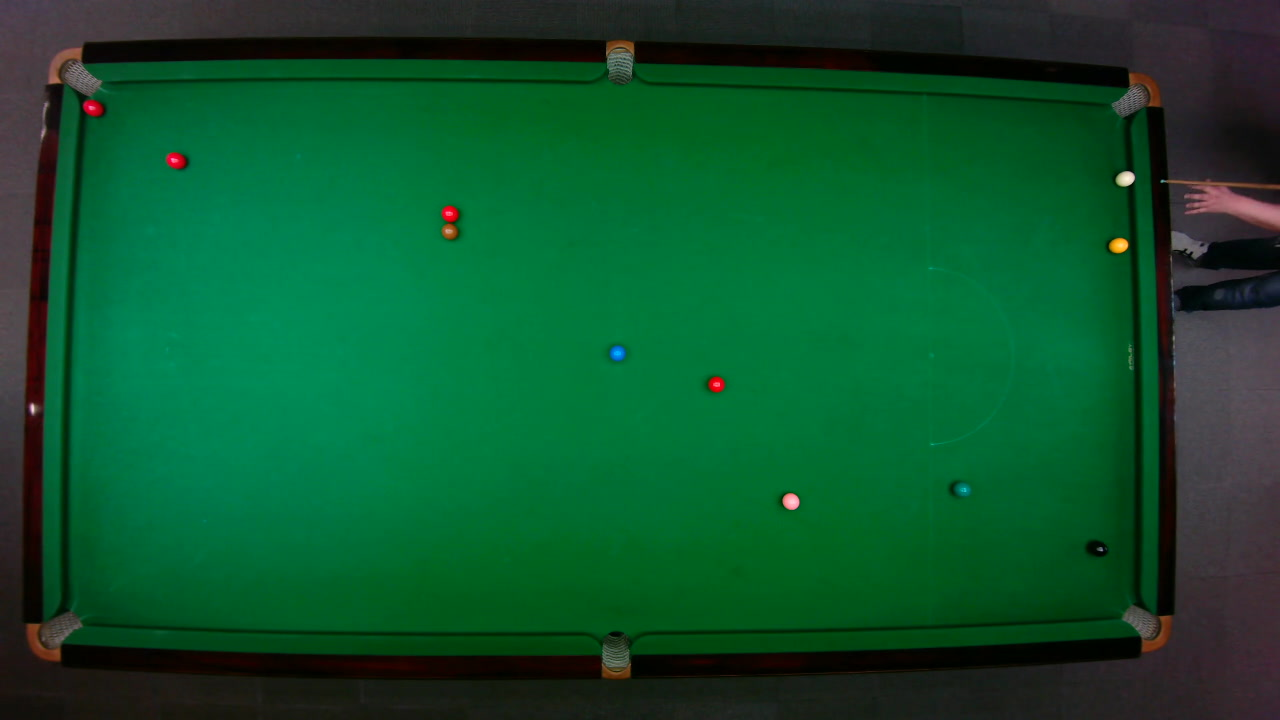bag: (24, 609, 83, 662), (46, 46, 101, 96), (1119, 603, 1172, 652), (1108, 71, 1161, 118), (600, 629, 630, 680), (605, 38, 633, 85)
black: (1087, 539, 1108, 557)
blue: (608, 344, 626, 361)
brown: (440, 223, 458, 240)
cue: (1158, 178, 1280, 193)
green: (951, 480, 972, 497)
pink: (780, 491, 800, 510)
red: (164, 150, 187, 170), (80, 97, 104, 116), (439, 203, 459, 222), (706, 374, 725, 393)
white: (1113, 169, 1136, 187)
yellow: (1107, 236, 1130, 253)
zone: (927, 266, 1014, 446)
